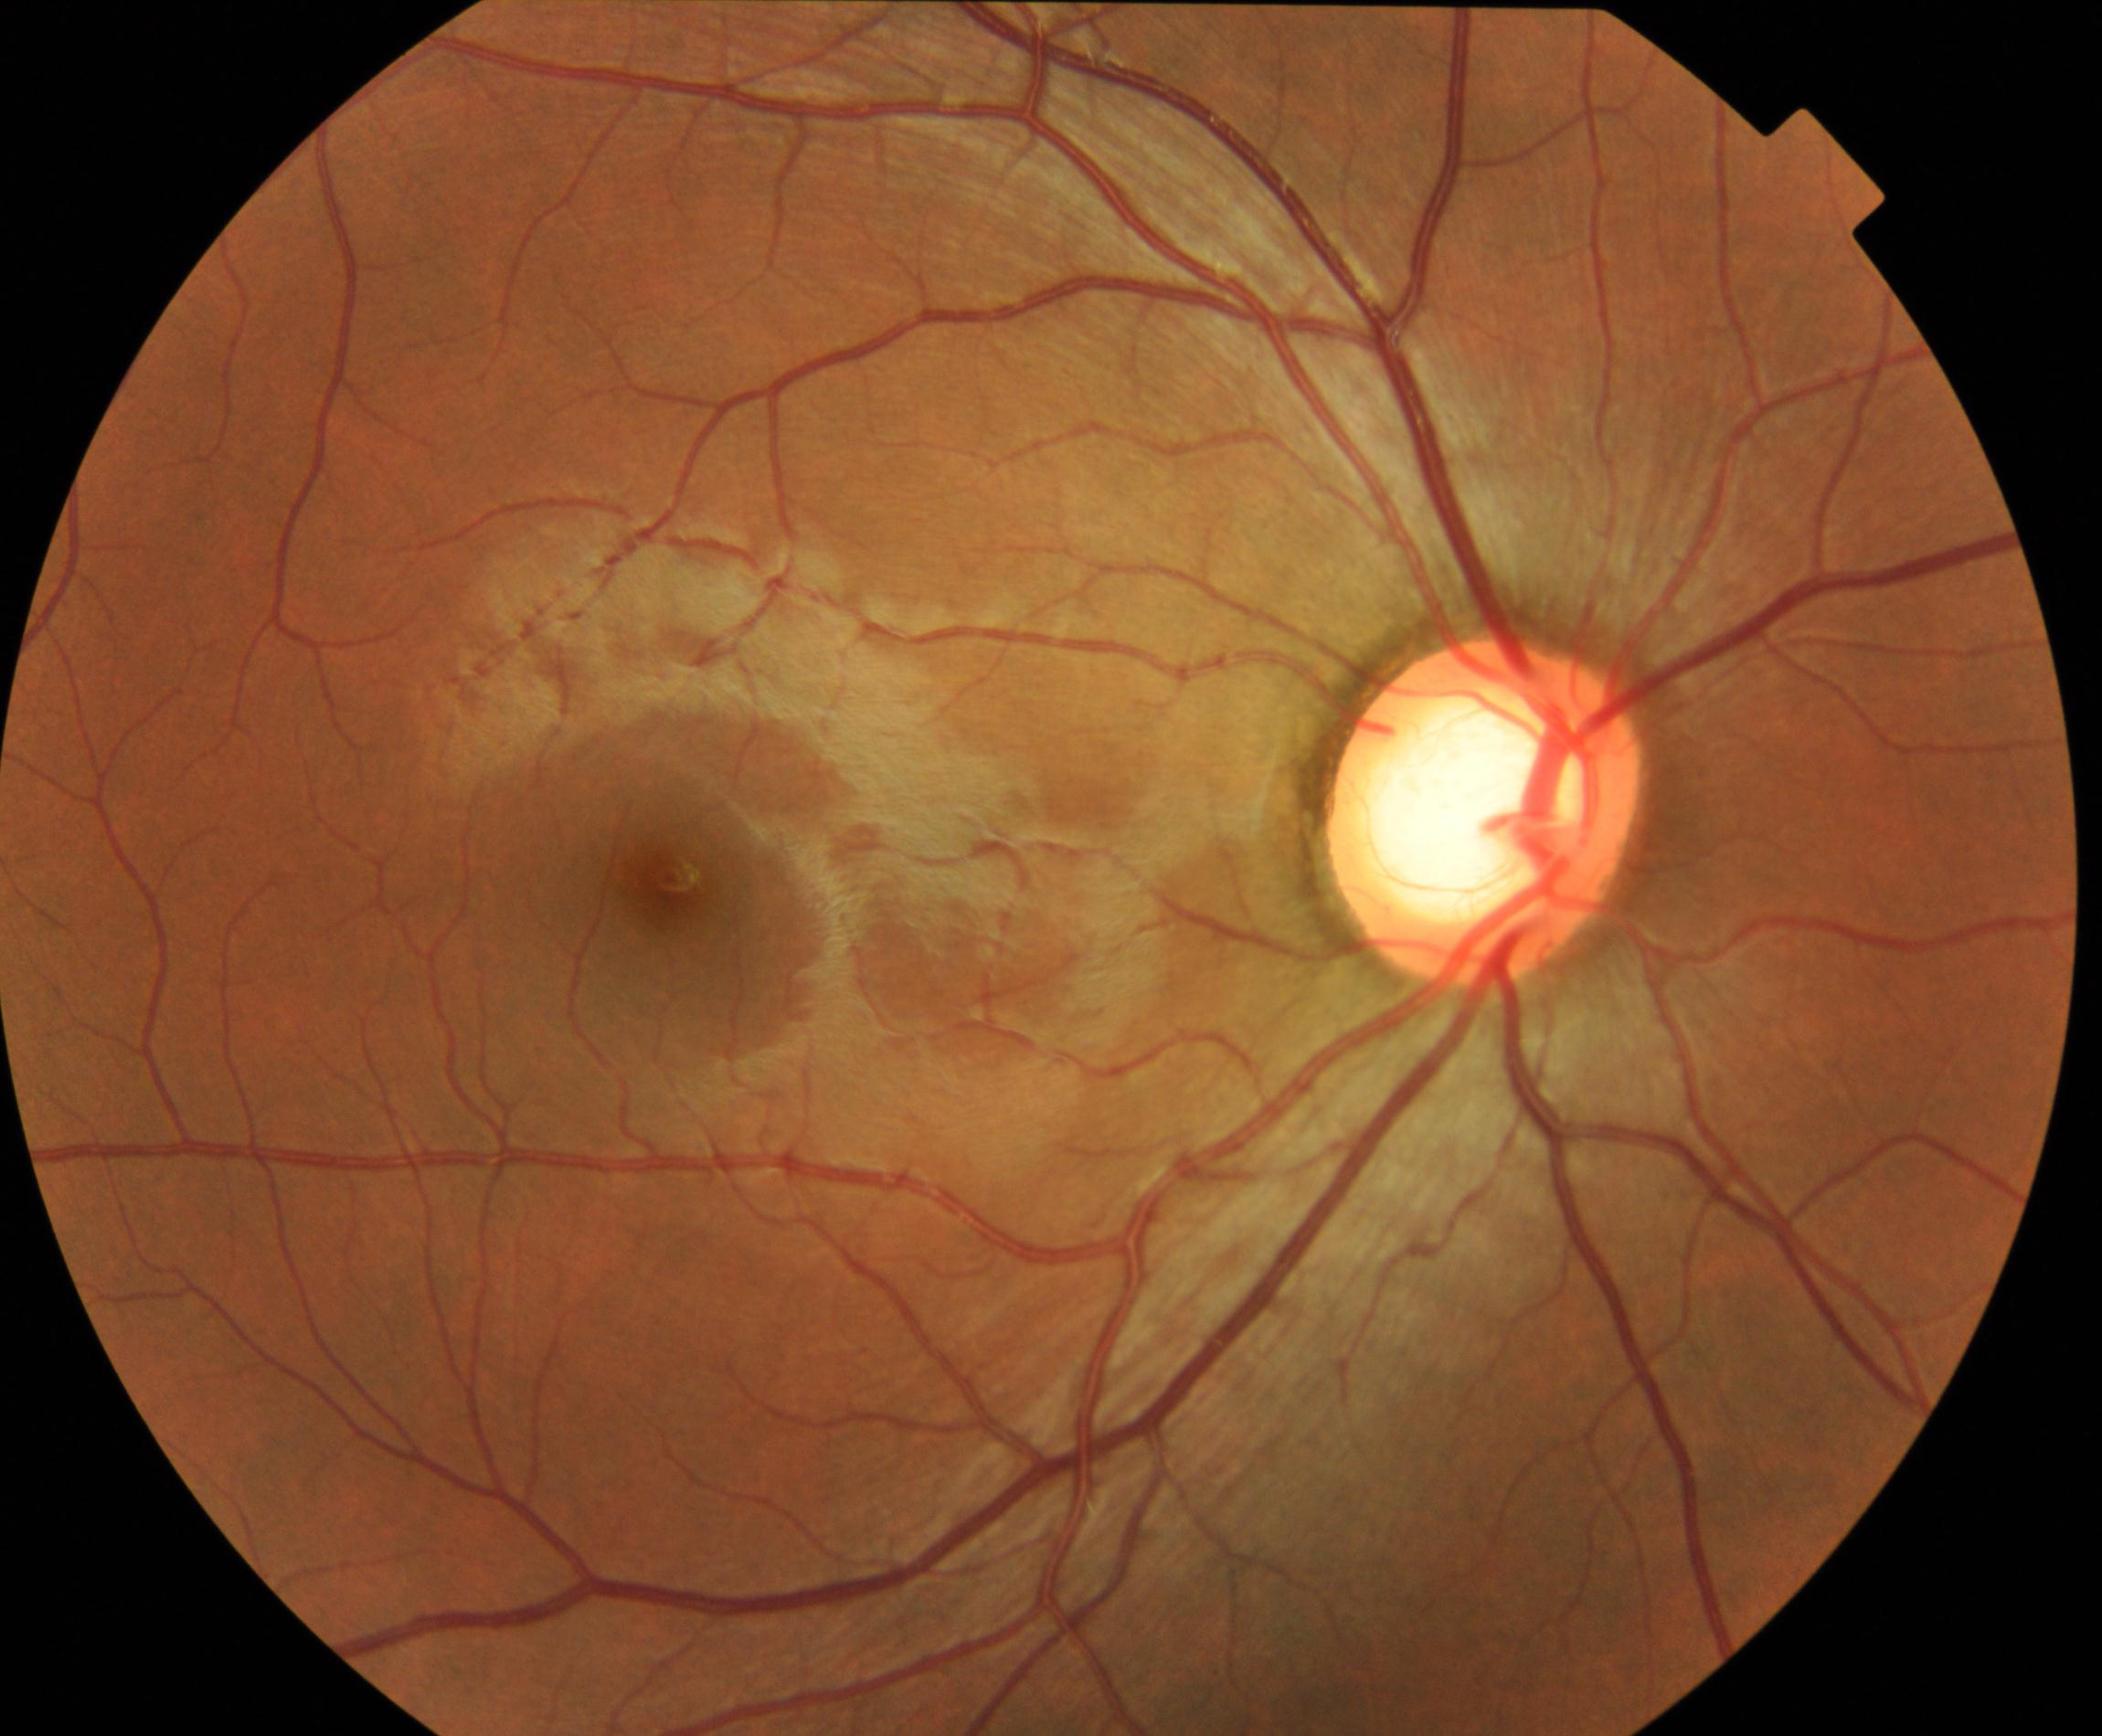Glaucoma section-1: (1398, 722, 1526, 879)
Glaucoma section-2: (1323, 642, 1650, 998)
